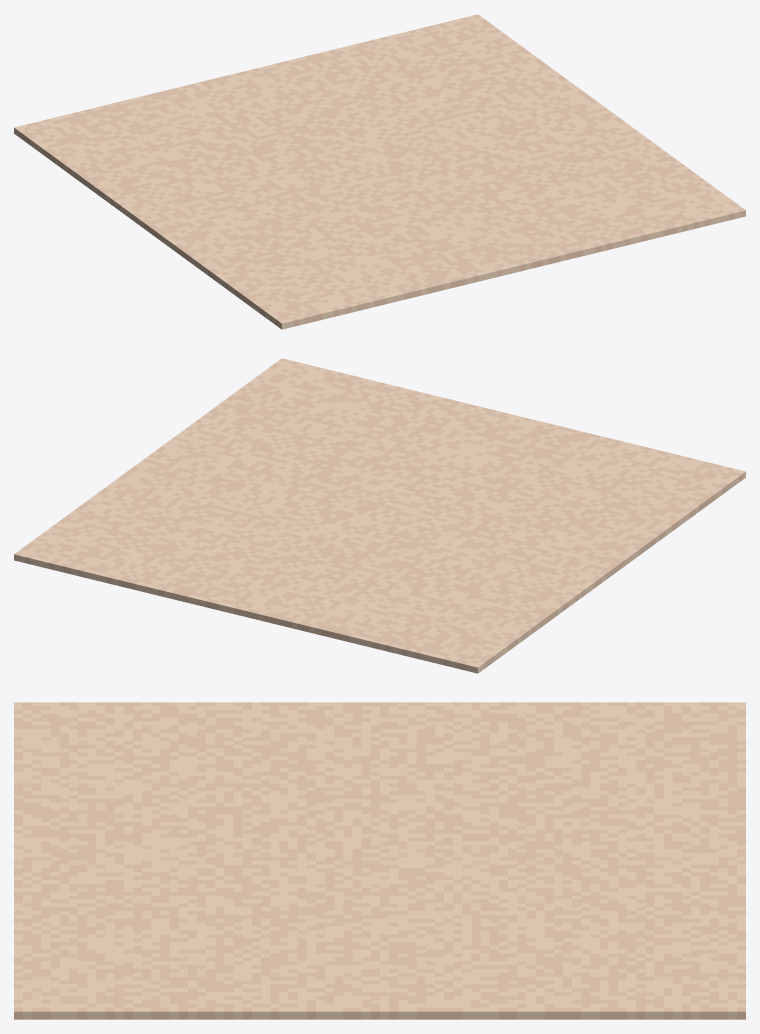
Rendered from floor_02_L.dae.
The picture shows the model from 3 angles, top to bottom: view 1: azimuth 30°, elevation 25°; view 2: azimuth 150°, elevation 25°; view 3: azimuth 270°, elevation 25°; orthographic projection. The views are drawn at different scales.
Visible parts, largest first — view 1: Untitled; view 2: Untitled; view 3: Untitled.
Boxes of the visible parts, box(x1,y1,x2,y2) form: Untitled: box(14, 14, 745, 329); Untitled: box(14, 358, 745, 673); Untitled: box(14, 702, 745, 1019).
Size of the model in its own units: 2.4 by 2.4 by 0.03.
Materials: 1 (1 with a texture image).
